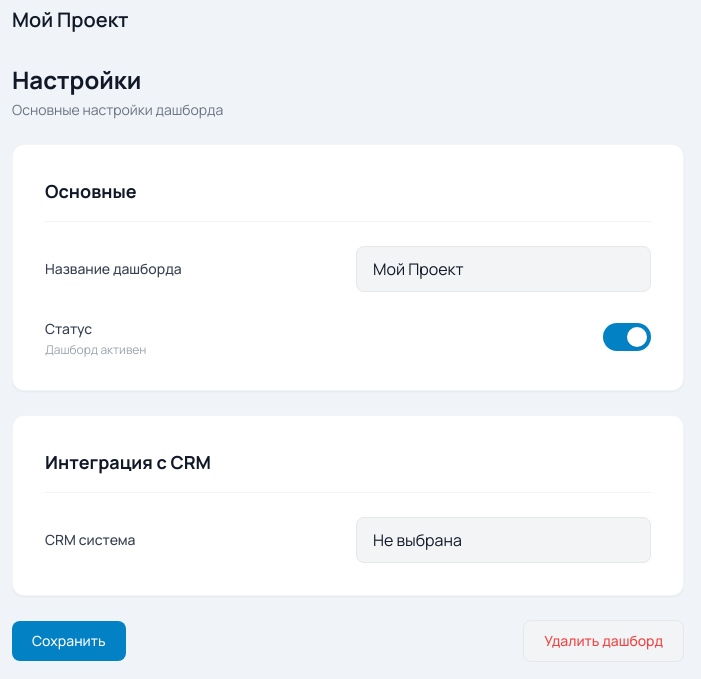
Test: Settings › shows saving state on save button
Step 1. Click the button "Сохранить" → (69, 641), box [12,621,126,661]
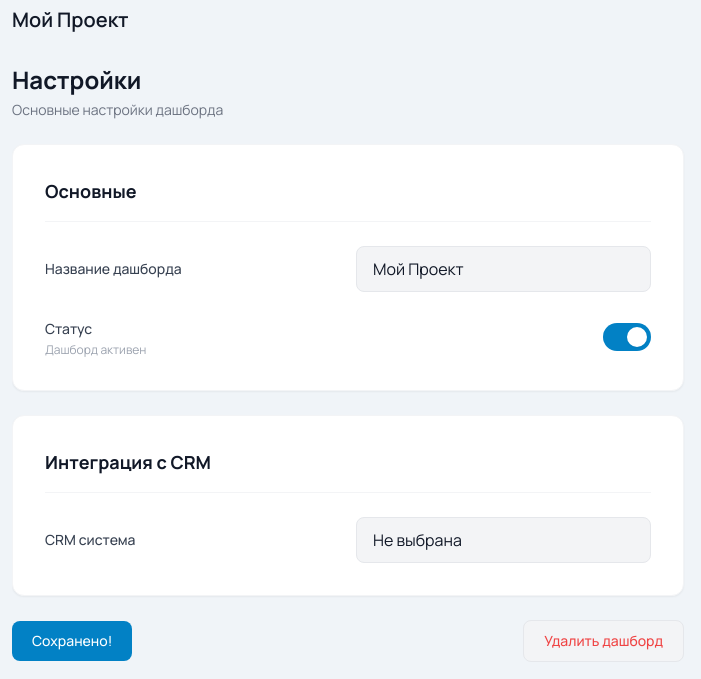
Now the button "Сохранено!" is shown, box [12,621,132,661]
